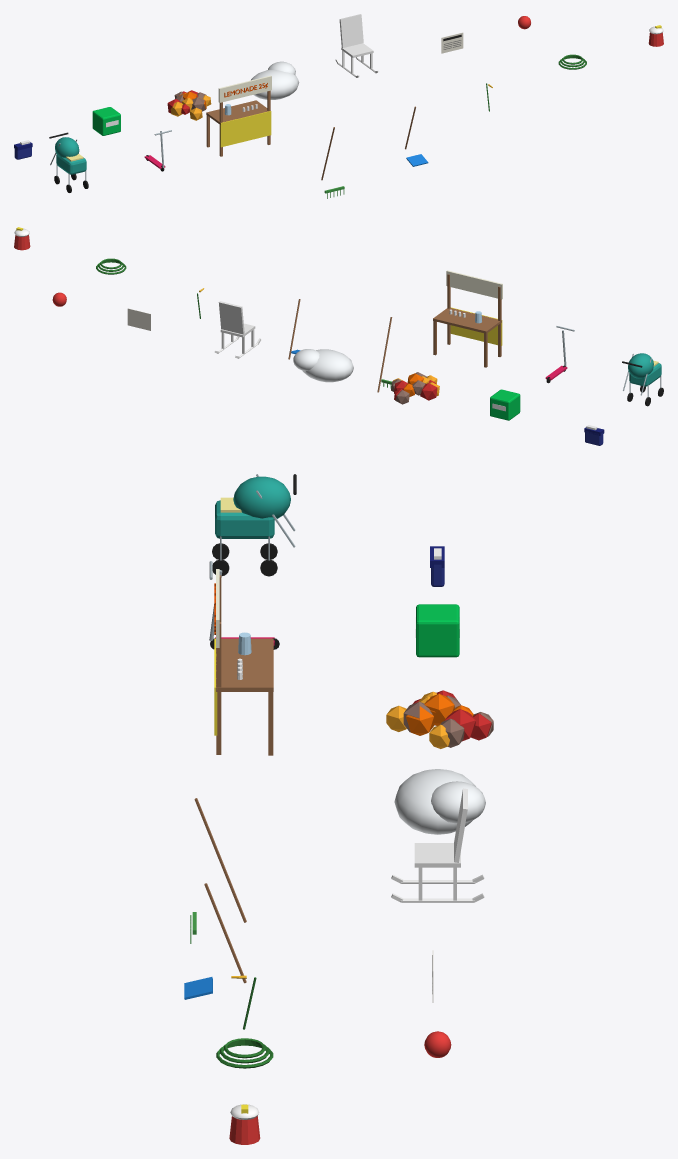
Rendered from homes_street.glb.
3 views of the same model, one above another, from view 1: azimuth 30°, elevation 25°; view 2: azimuth 150°, elevation 25°; view 3: azimuth 270°, elevation 25° (orthographic). The views are drawn at different scales.
Parts seen in each view (by area): view 1: LemonadeStand_body, Rocker_body, Stroller_body, SnowPile_body, LeafPile_body, DeliveryBag_body, Newspaper_body, MailBag_body, HoseCoil_body, Bucket_body; view 2: LemonadeStand_body, SnowPile_body, Stroller_body, Rocker_body, LeafPile_body, DeliveryBag_body, Newspaper_body, MailBag_body; view 3: Stroller_body, LemonadeStand_body, SnowPile_body, LeafPile_body, Rocker_body, DeliveryBag_body, Bucket_body, HoseCoil_body.
Boxes of the visible parts, box(x1,y1,x2,y2) form: LemonadeStand_body: box(206, 75, 271, 156); Rocker_body: box(335, 14, 379, 77); Stroller_body: box(49, 132, 88, 192); SnowPile_body: box(251, 61, 299, 99); LeafPile_body: box(167, 90, 211, 120); DeliveryBag_body: box(92, 107, 120, 135); Newspaper_body: box(441, 32, 463, 53); MailBag_body: box(14, 140, 32, 159); HoseCoil_body: box(558, 54, 586, 69); Bucket_body: box(648, 25, 663, 46); LemonadeStand_body: box(433, 270, 502, 367); SnowPile_body: box(293, 349, 353, 382); Stroller_body: box(622, 353, 663, 406); Rocker_body: box(214, 301, 260, 358); LeafPile_body: box(391, 372, 439, 404); DeliveryBag_body: box(490, 389, 520, 420); Newspaper_body: box(127, 308, 150, 330); MailBag_body: box(584, 425, 604, 445); Stroller_body: box(212, 474, 296, 576); LemonadeStand_body: box(214, 569, 273, 755); SnowPile_body: box(394, 769, 485, 834); LeafPile_body: box(386, 690, 493, 748); Rocker_body: box(391, 788, 484, 902); DeliveryBag_body: box(415, 604, 459, 657); Bucket_body: box(229, 1104, 260, 1144); HoseCoil_body: box(216, 1038, 273, 1068).
Bounding box in the file's own units: 14.4 × 2.97 × 3.21.
